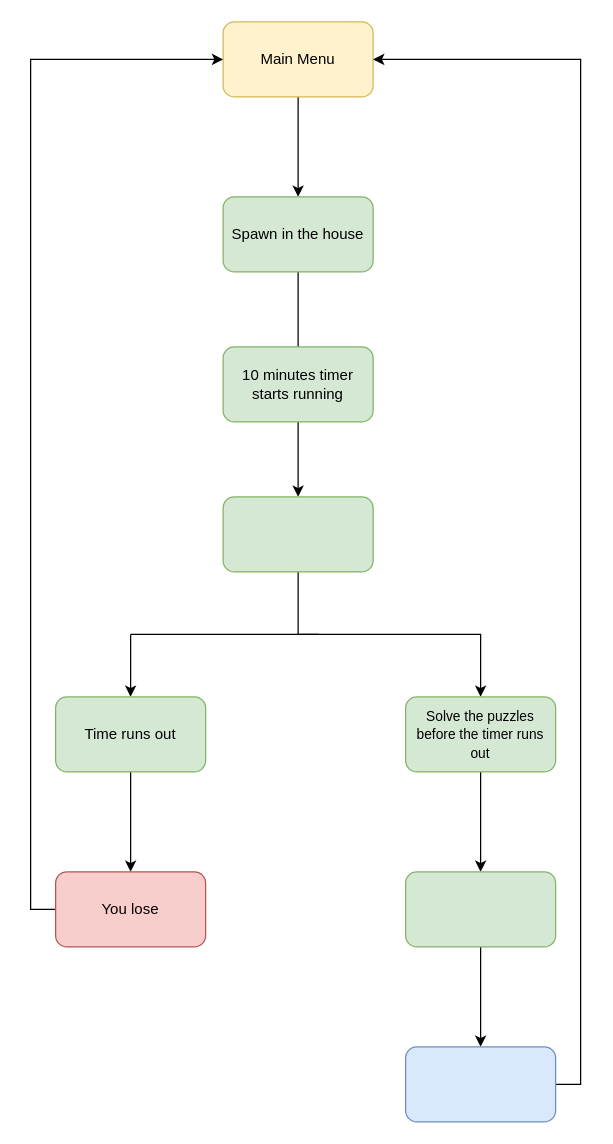
Some shapes in this 613 by 1144 pixel diagram are drawn without their labels. The centre of each missing label's shape, as x and y in pixels:
"Escape the house" belongs at (x=480, y=909).
"Search for the puzzles" belongs at (x=297, y=534).
"You win" belongs at (x=480, y=1084).
